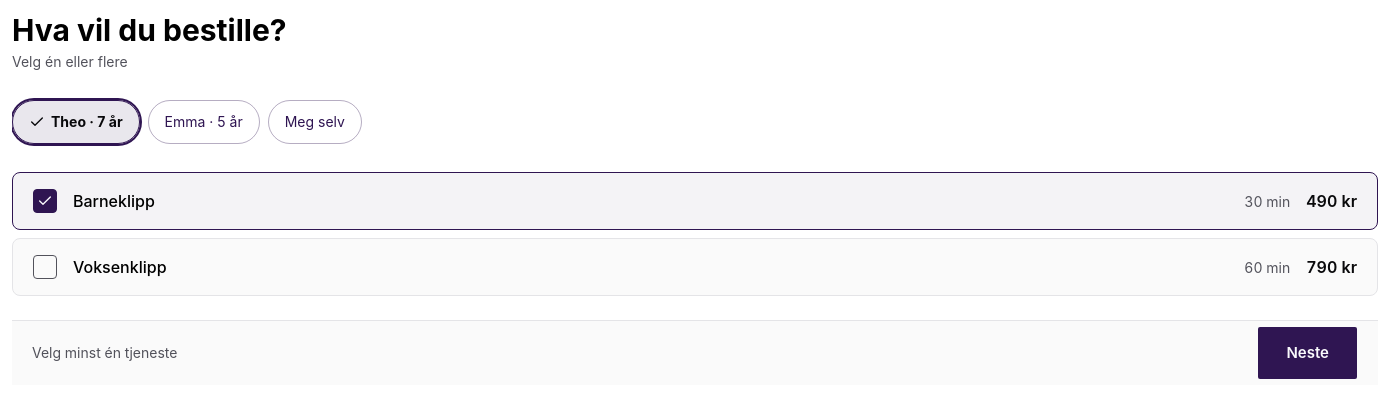
Test case: ServiceScreen — multi-select (`selection`) › for a family › offers everyone the whole menu without a children’s category
This screenshot has width=1378, height=396.
Click the tab "Meg selv": (315, 122) [268,100,362,144]
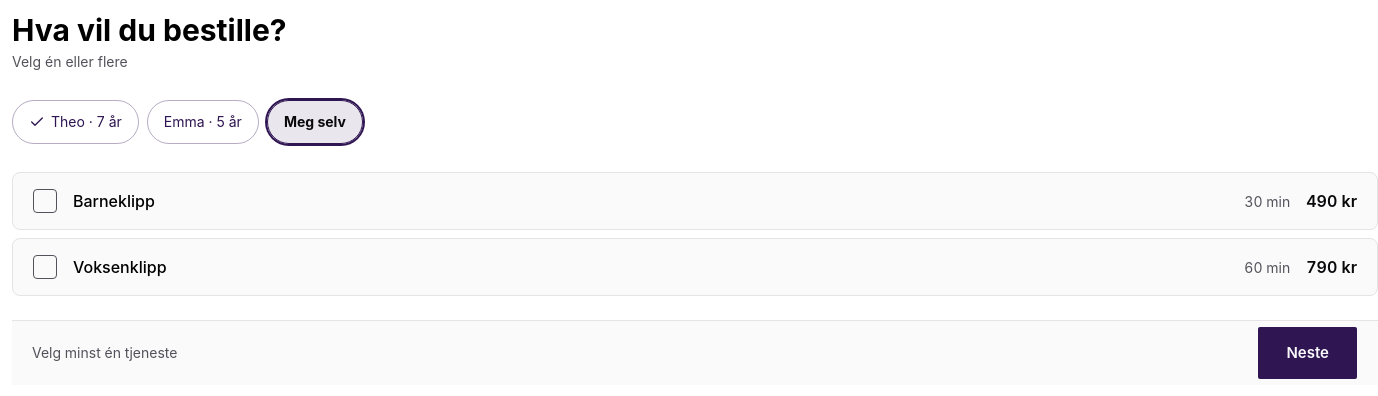
Expected: the checkbox labelled "Voksenklipp 60 min 790 kr" is shown, [12,238,1377,296]
Result: the checkbox labelled "Barneklipp 30 min 490 kr" is not checked at [12,172,1377,230]
